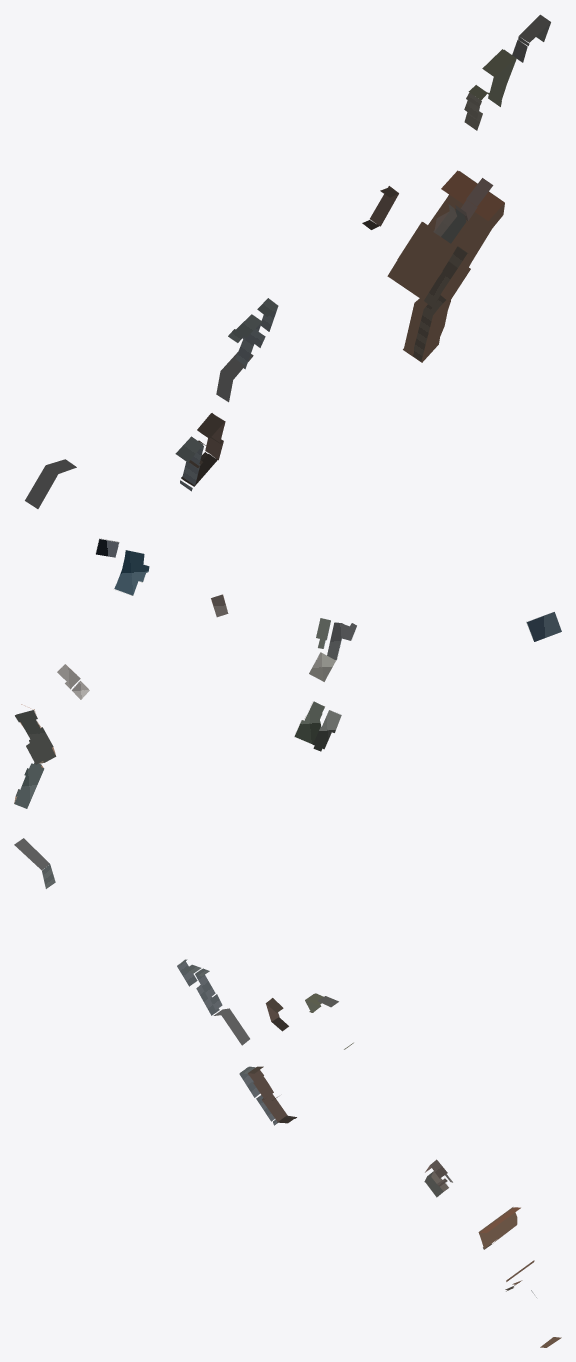
The model's file is tile_LOD3_r6_c5.glb.
3 renders of one model, top to bottom at view 1: azimuth 30°, elevation 25°; view 2: azimuth 150°, elevation 25°; view 3: azimuth 270°, elevation 25°, orthographic. The views are drawn at different scales.
Bounding box in the file's own units: 248 × 135 × 197.
35 materials, 28 textured.
